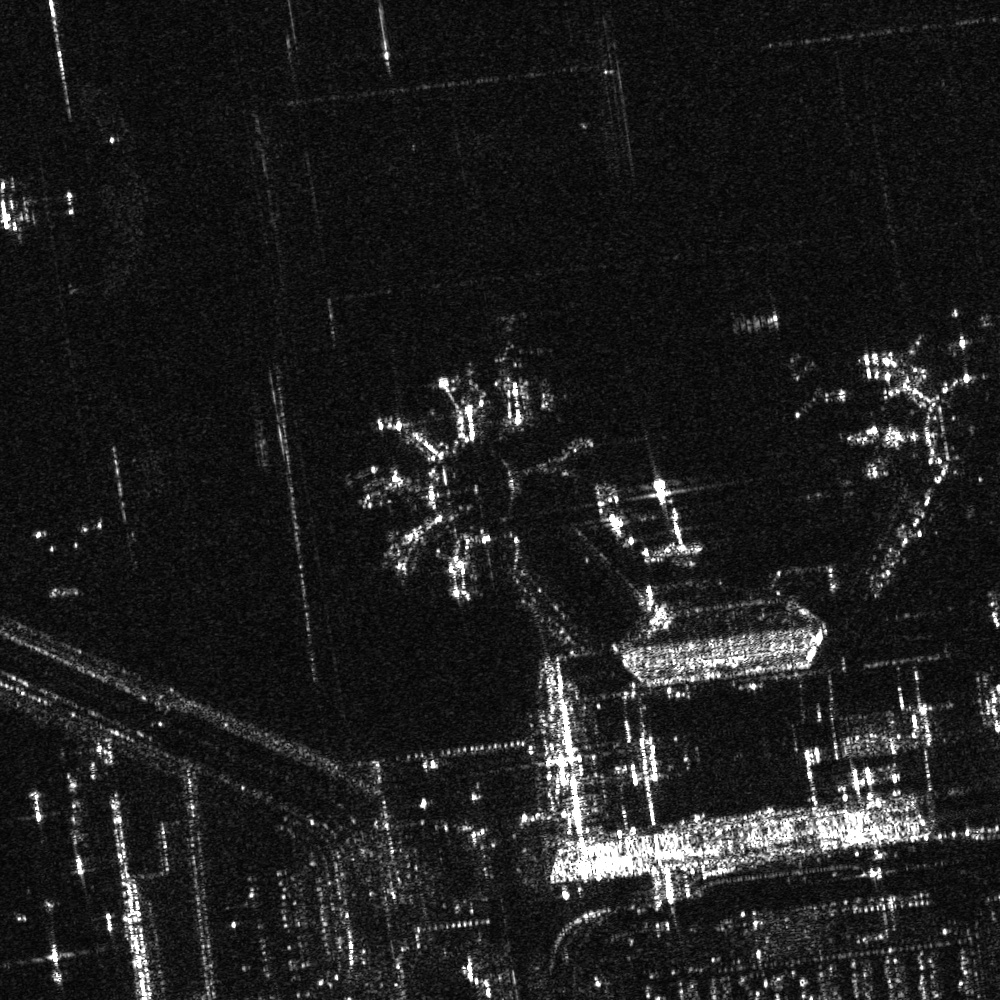A220: (793, 355, 851, 420), (485, 314, 540, 371), (812, 469, 857, 510)
